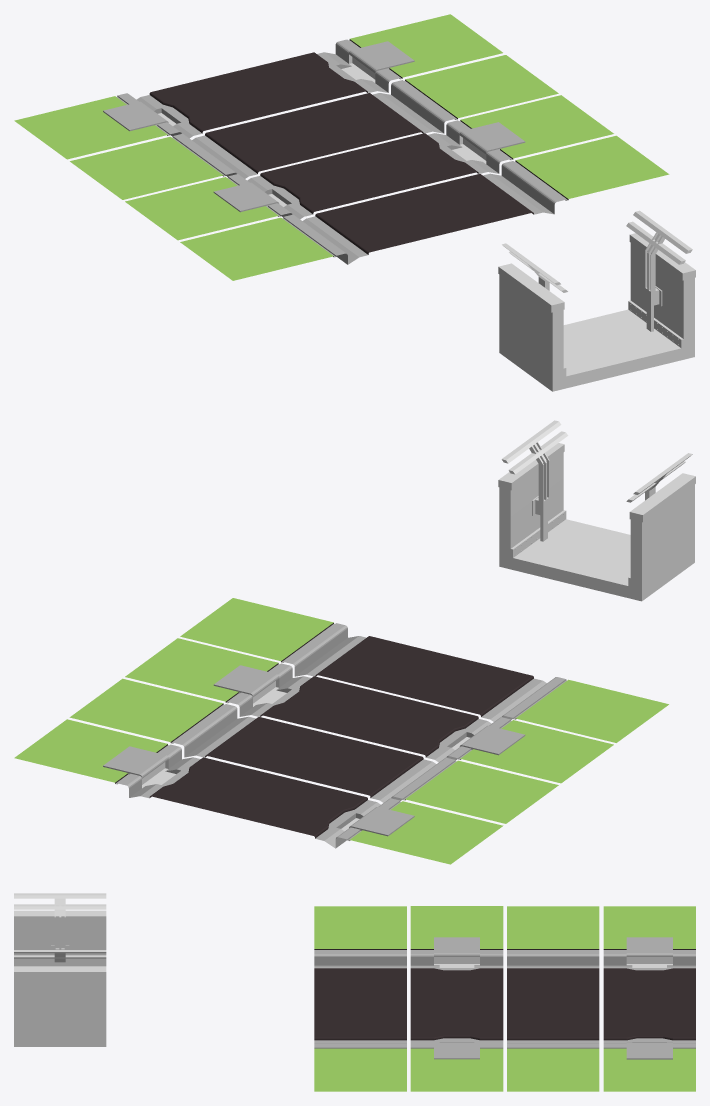
The model's file is R_Bridge.fbx.
3 views of the same model, one above another, from view 1: azimuth 30°, elevation 25°; view 2: azimuth 150°, elevation 25°; view 3: azimuth 270°, elevation 25° (orthographic). The views are drawn at different scales.
Visible parts, largest first — view 1: Plane, Plane.001, Plane.003, Plane.002, Bridge; view 2: Plane.003, Plane.002, Plane.001, Plane, Bridge; view 3: Plane.001, Plane, Plane.002, Plane.003, Bridge.
Boxes of the visible parts, bbox=[...] form: Plane: bbox=[180, 135, 669, 280]; Plane.001: bbox=[125, 95, 613, 240]; Plane.003: bbox=[14, 14, 502, 159]; Plane.002: bbox=[70, 55, 558, 199]; Bridge: bbox=[498, 210, 695, 391]; Plane.003: bbox=[14, 719, 503, 864]; Plane.002: bbox=[69, 678, 558, 823]; Plane.001: bbox=[125, 638, 613, 783]; Plane: bbox=[180, 598, 668, 742]; Bridge: bbox=[498, 420, 695, 601]; Plane.001: bbox=[410, 906, 503, 1091]; Plane: bbox=[314, 906, 406, 1091]; Plane.002: bbox=[507, 906, 599, 1091]; Plane.003: bbox=[603, 906, 695, 1091]; Bridge: bbox=[14, 893, 106, 1046].
Bounding box in the file's own units: 1900 × 449 × 2951.
